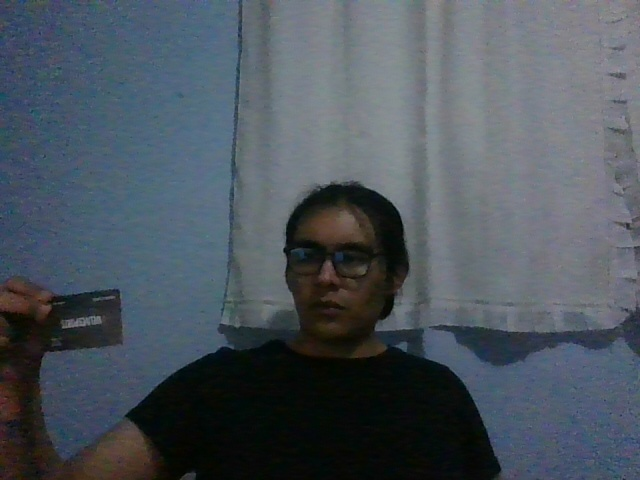tarjeta: (40, 288, 124, 353)
